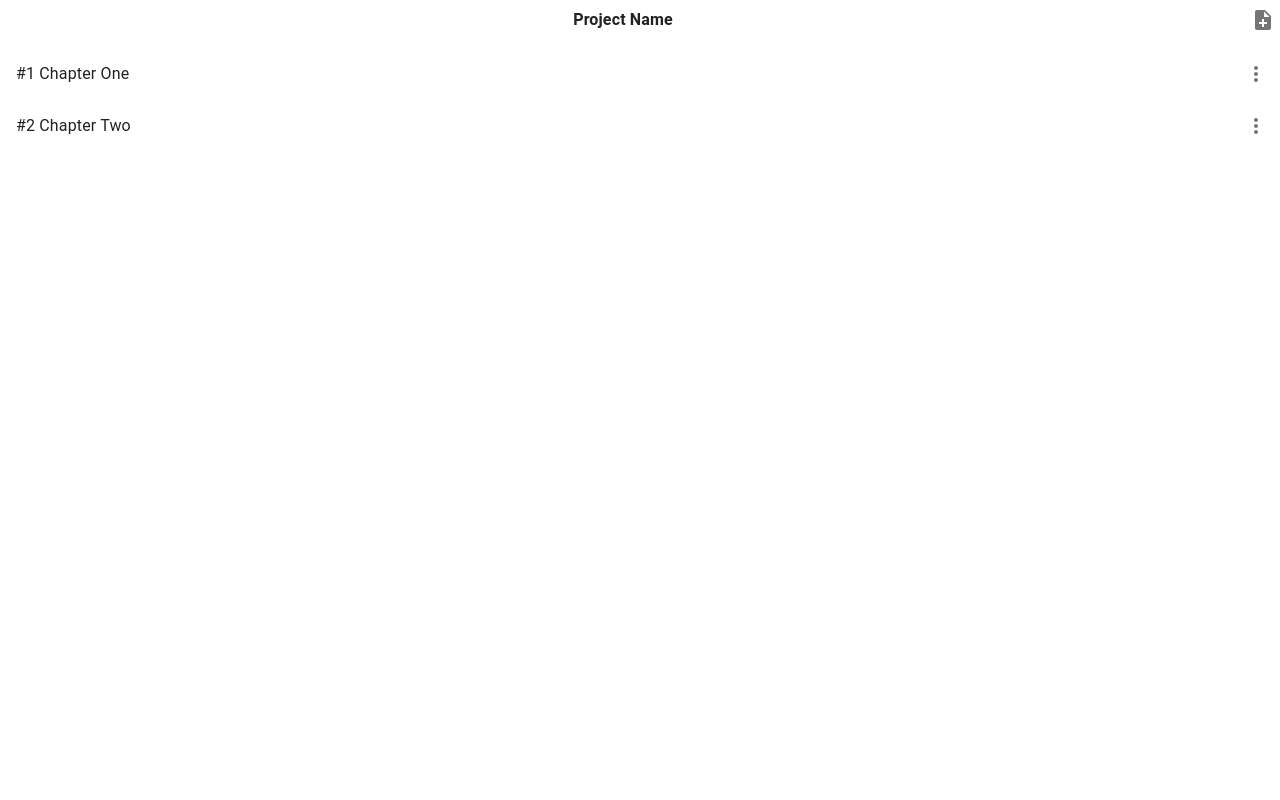
should create a chapter (first chapter)
Expected: the heading "Project Name" is shown, [573,6,673,34]
Click the button named "new chapter" at (1263, 20), box [1246,0,1279,40]
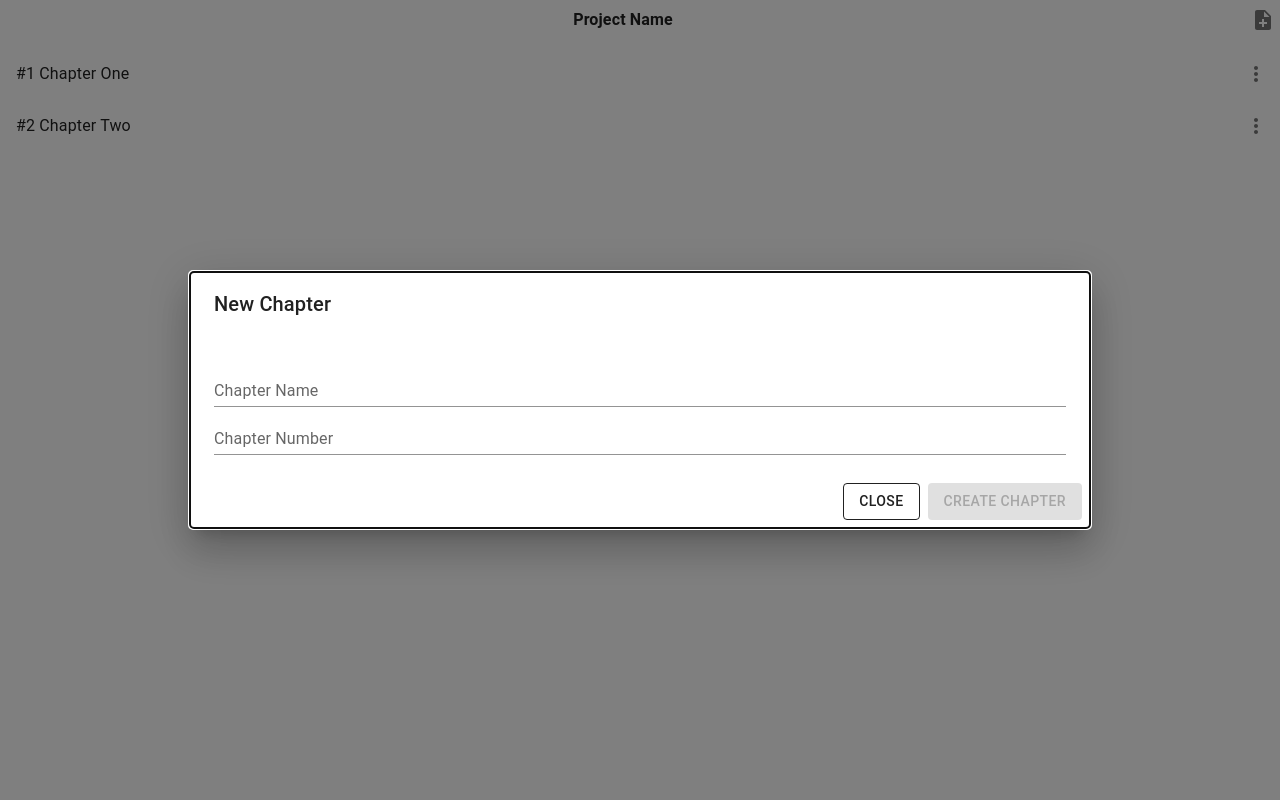
Click the field labelled "Chapter Name" at (640, 391), box [214,375,1066,407]
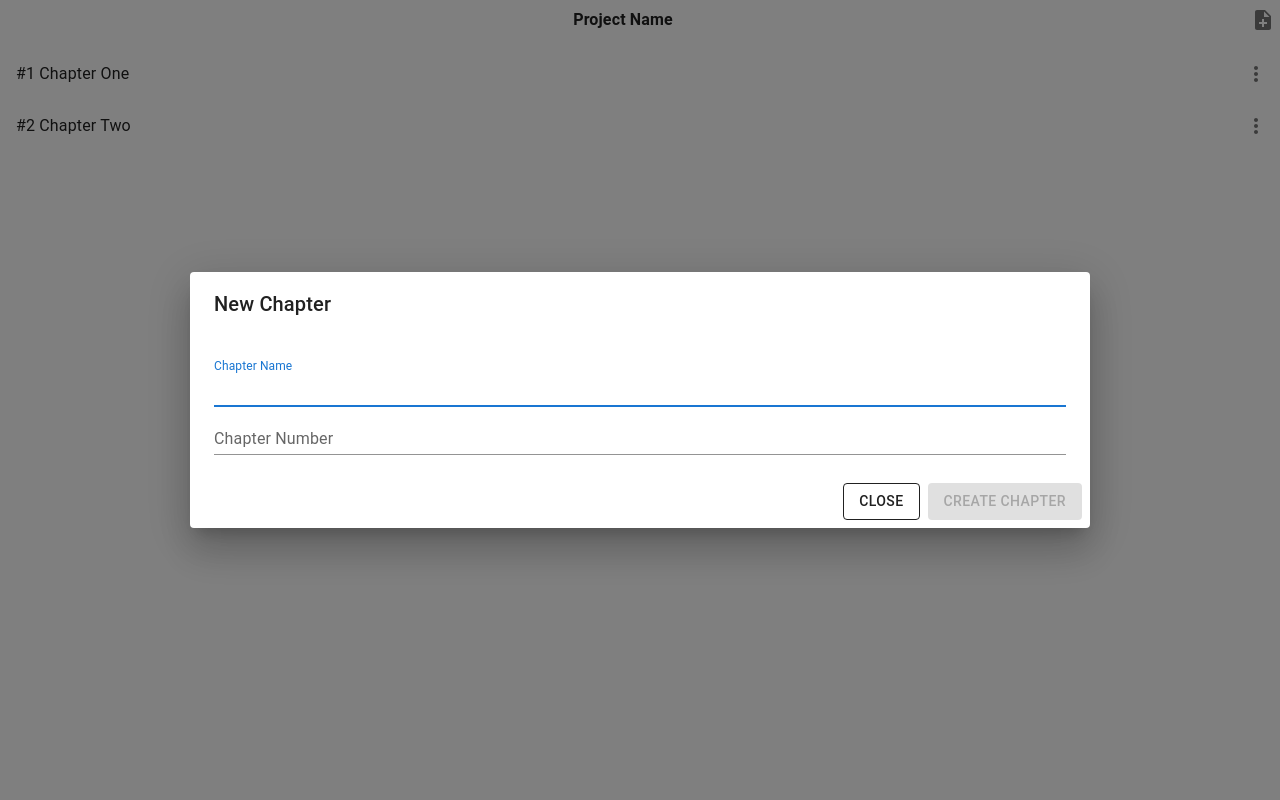
Type keys "Chapter"
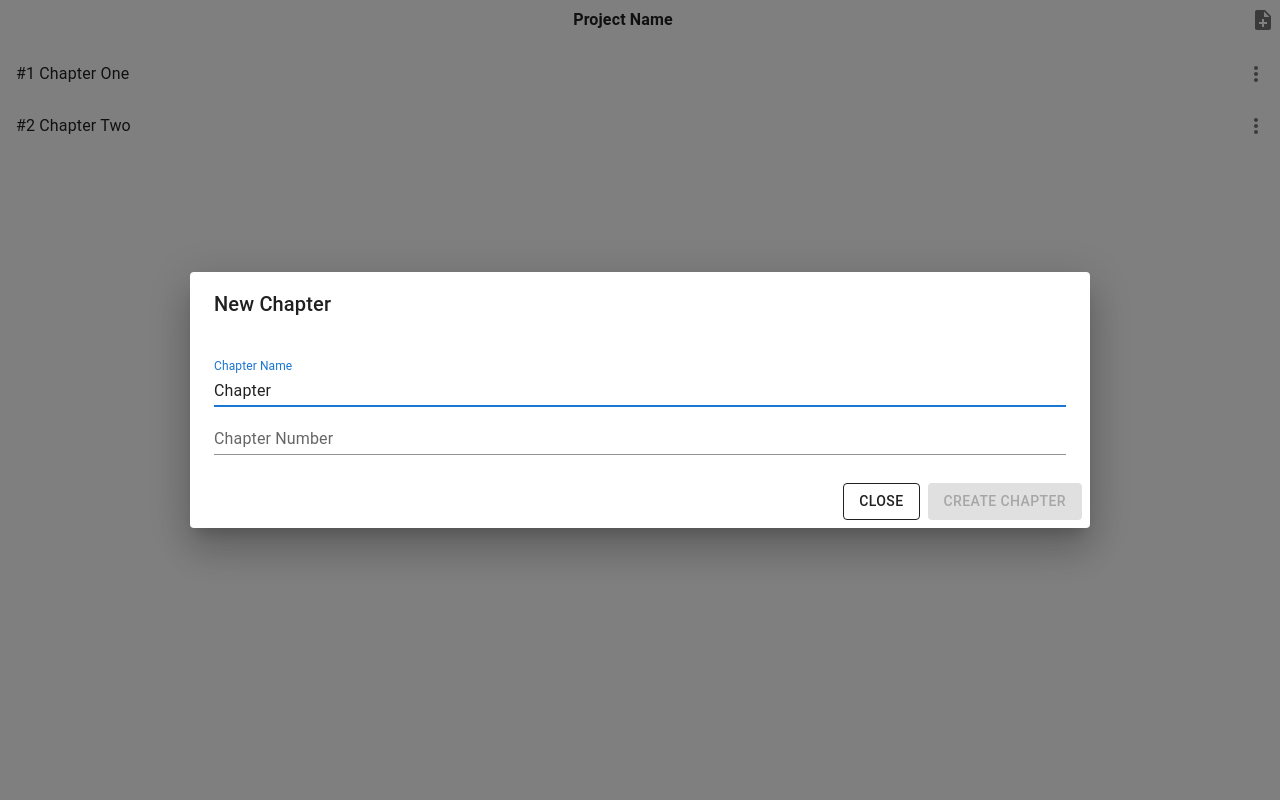
Click the field labelled "Chapter Number" at (640, 439), box [214,423,1066,455]
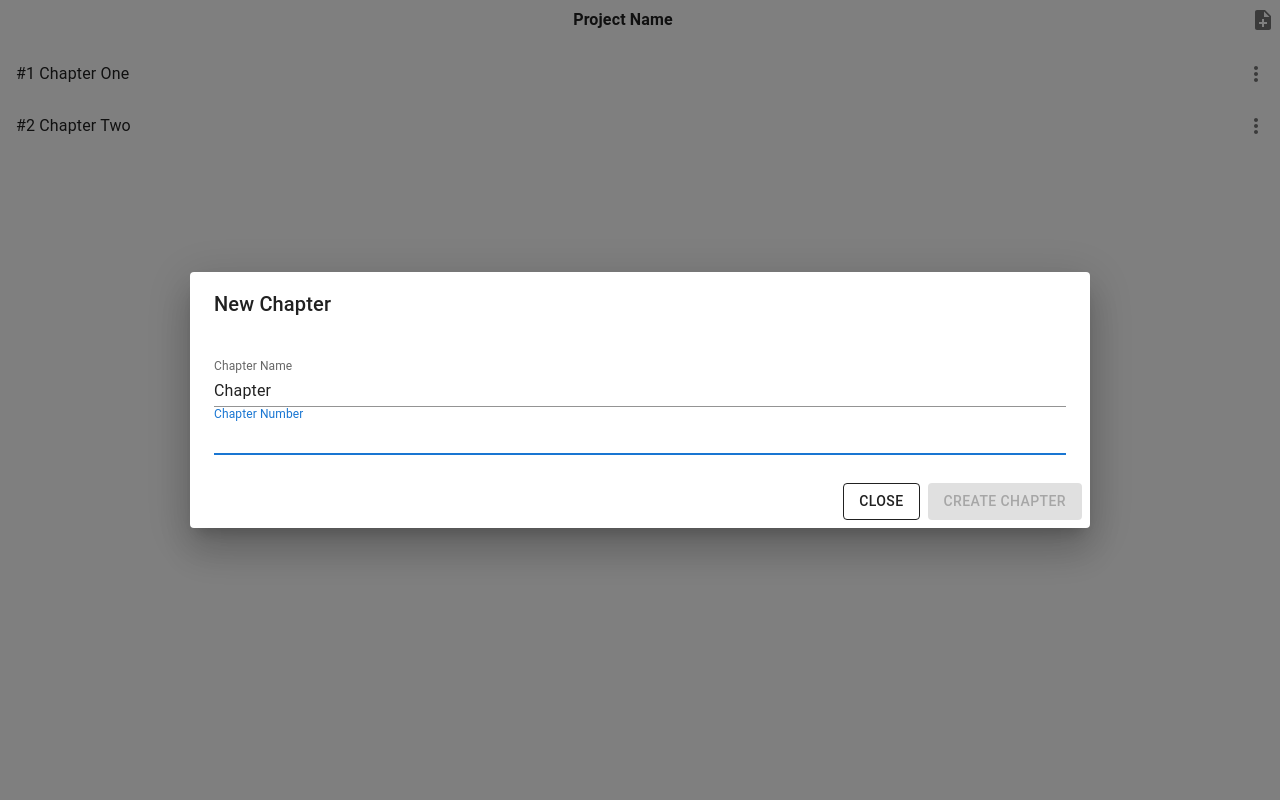
Type keys "1"
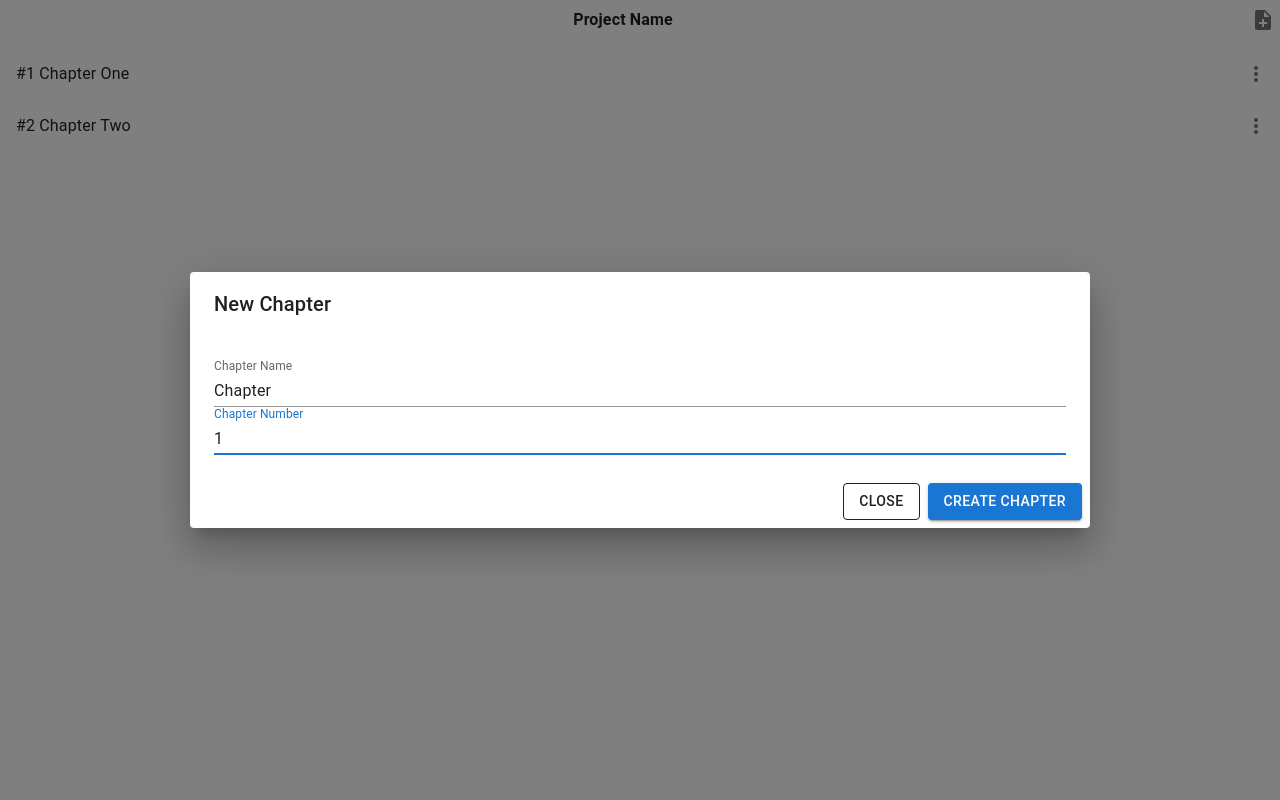
Expected: the button "Create Chapter" is enabled
Click the button "Create Chapter" at (1005, 502), box [928,483,1082,520]
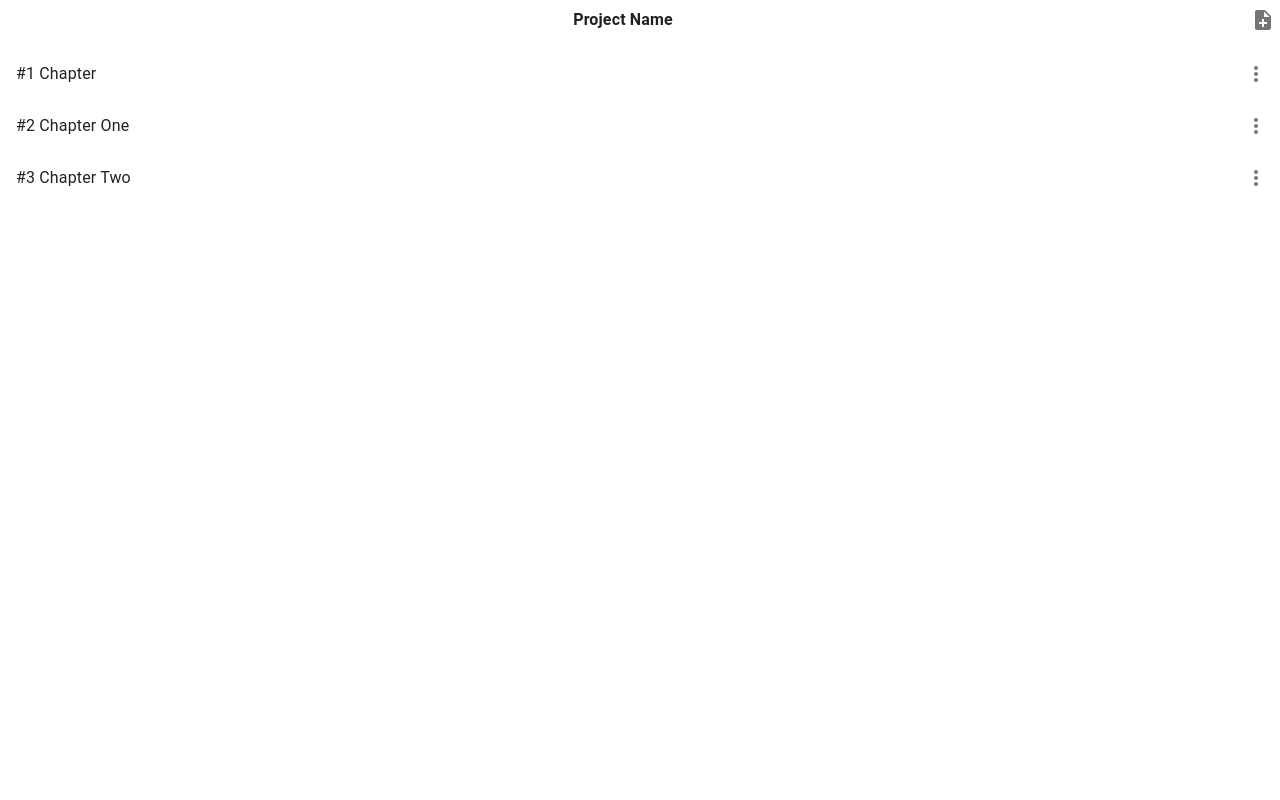
Expected: the dialog is gone
Expected: the list items read "#1 Chapter", "#2 Chapter One", "#3 Chapter Two", in this order, [0,48,1279,100]; [0,100,1279,152]; [0,152,1279,204]
